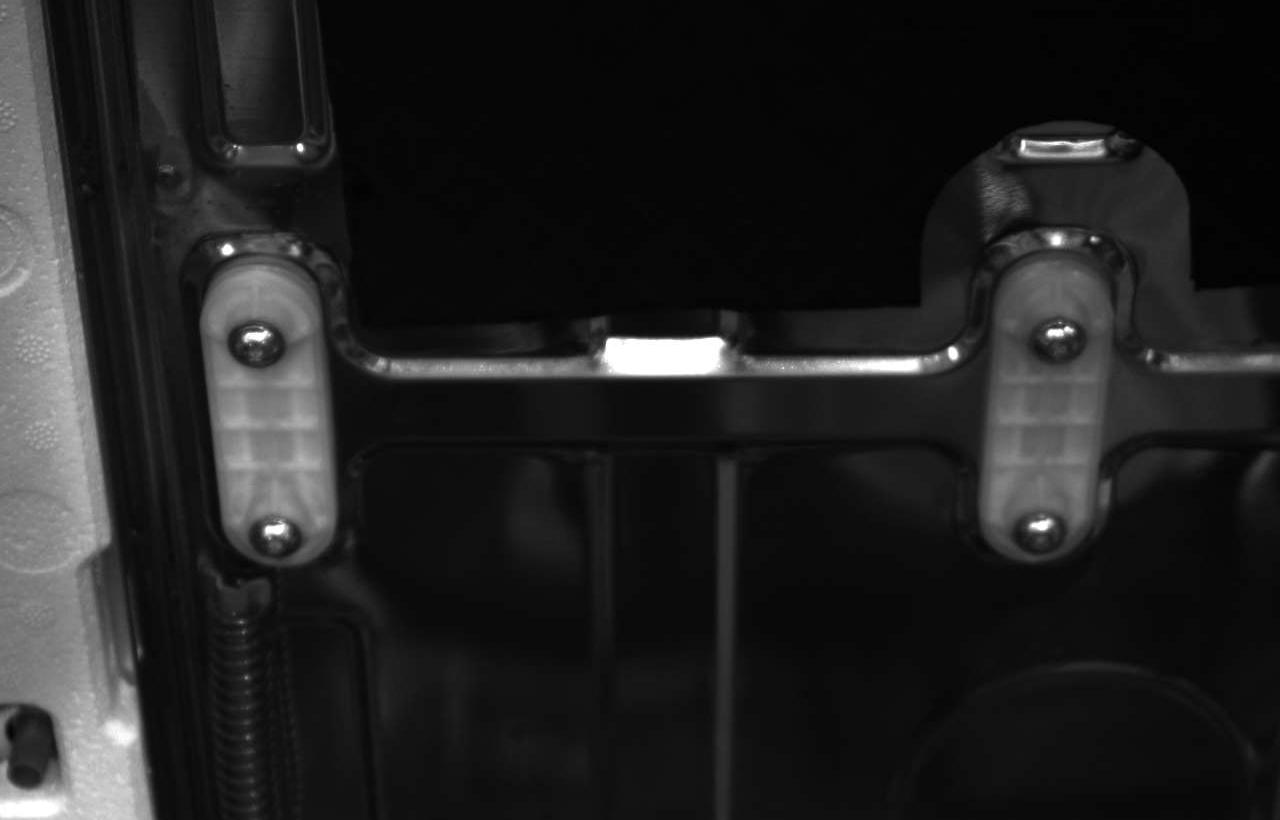vida-ok: (221, 308, 293, 375), (1023, 305, 1090, 372), (1006, 491, 1071, 559), (244, 509, 310, 568)
